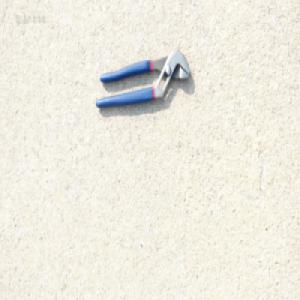Pliers: (94, 50, 191, 111)
